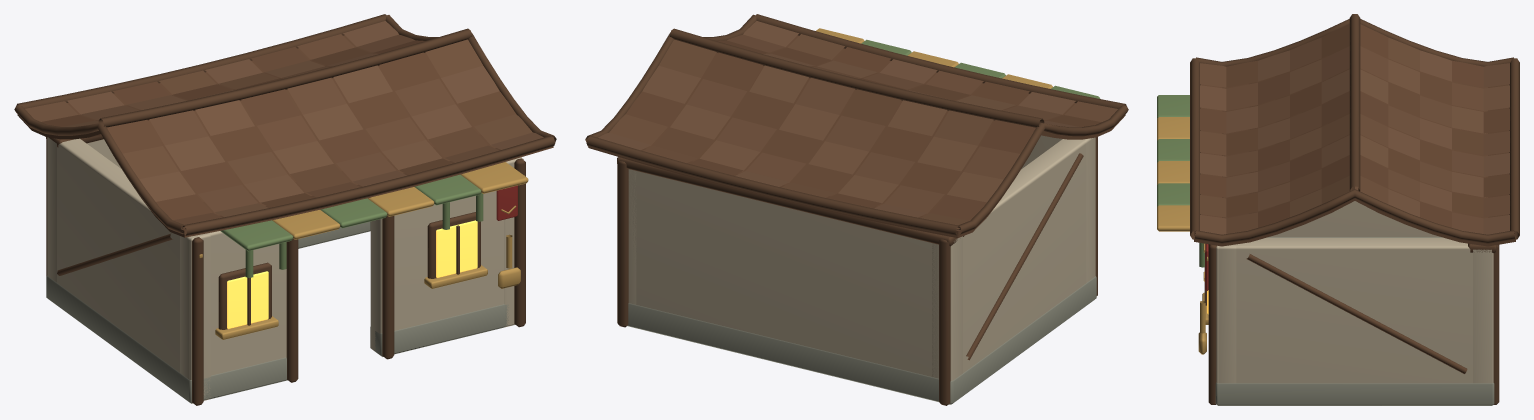
The model's file is architecture-apothecary.glb.
3 renders of one model, left to right at view 1: azimuth 30°, elevation 25°; view 2: azimuth 150°, elevation 25°; view 3: azimuth 270°, elevation 25°, orthographic. The views are drawn at different scales.
Visible parts, largest first — view 1: architecture-apothecary-exterior; view 2: architecture-apothecary-exterior; view 3: architecture-apothecary-exterior.
Part boxes in pixels (bbox=[...]): architecture-apothecary-exterior: bbox=[14, 14, 556, 405]; architecture-apothecary-exterior: bbox=[585, 14, 1128, 405]; architecture-apothecary-exterior: bbox=[1157, 14, 1519, 405].
Bounding box in the file's own units: 5.07 × 3.05 × 4.4.
